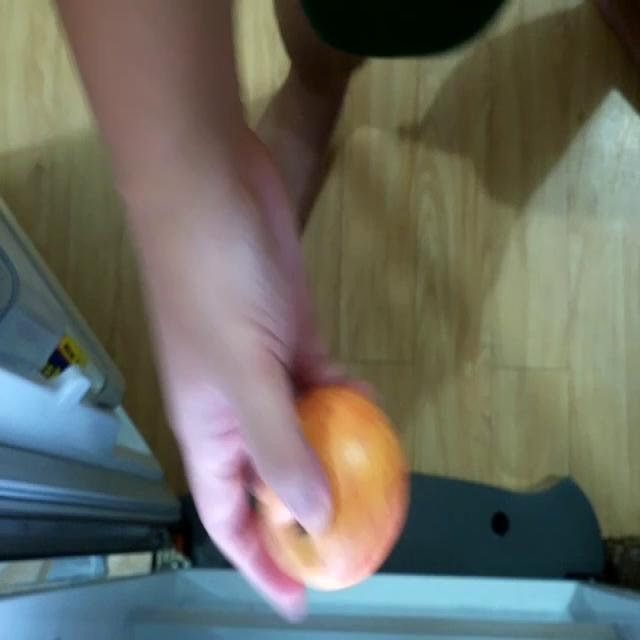apple: (244, 386, 408, 593)
